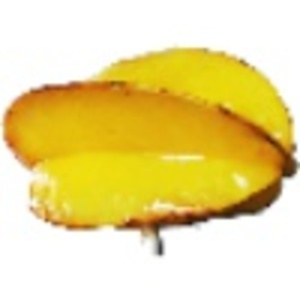carambola: (1, 45, 300, 245)
